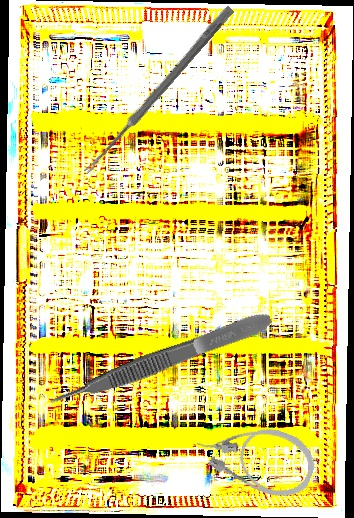Cannula: (189, 404, 323, 507)
Surgical Spoon: (82, 4, 235, 177)
Tissue Forceps: (45, 308, 276, 412)
